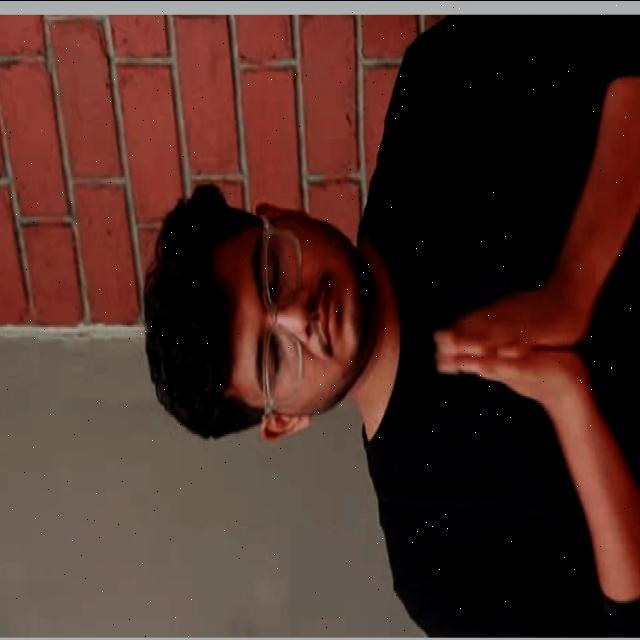face_no_mask: (209, 202, 367, 441)
